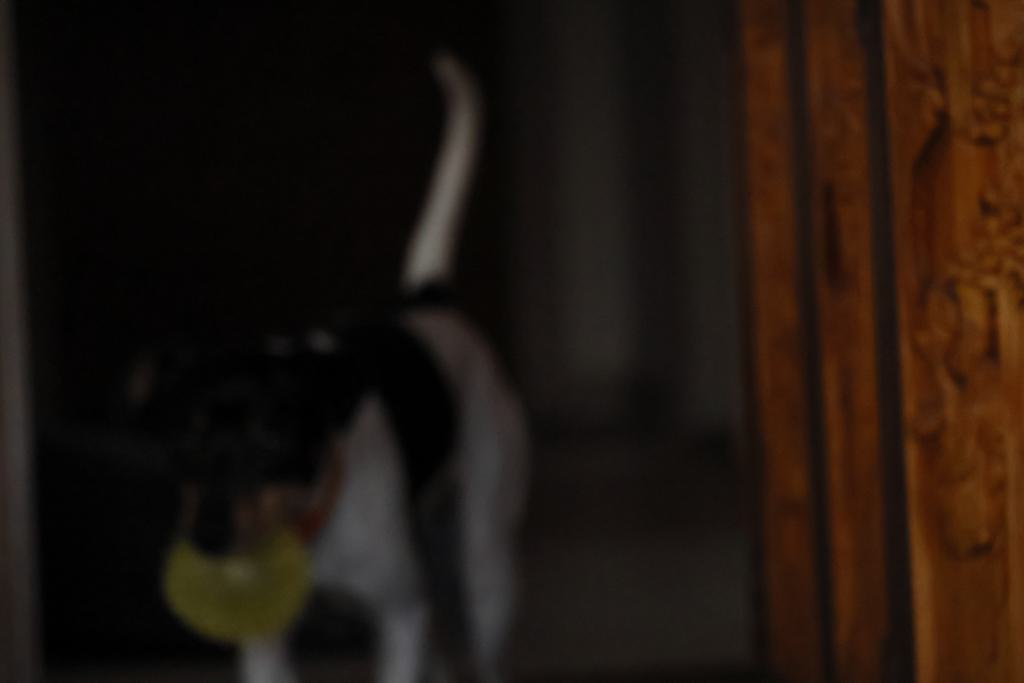Dog: (109, 27, 557, 683)
